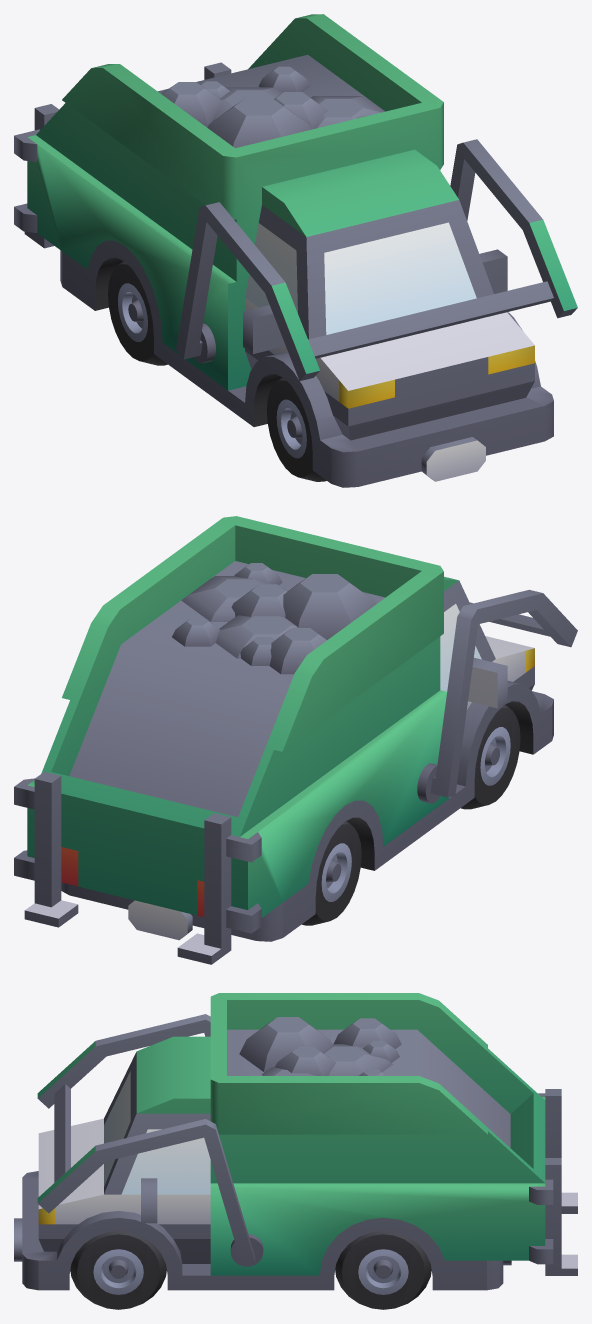
The model's file is garbage-truck.fbx.
3 views of the same model, one above another, from view 1: azimuth 30°, elevation 25°; view 2: azimuth 150°, elevation 25°; view 3: azimuth 270°, elevation 25° (orthographic). The views are drawn at different scales.
Visible parts, largest first — view 1: body, arm, trash, wheel-back-right, wheel-front-right; view 2: body, trash, arm, wheel-front-right, wheel-back-right; view 3: body, arm, trash, wheel-front-left, wheel-back-left.
Part boxes in pixels (x1,y1,x2,y2): body: [14, 14, 553, 487]; arm: [176, 139, 577, 380]; trash: [161, 66, 385, 148]; wheel-back-right: [108, 261, 167, 365]; wheel-front-right: [266, 377, 326, 481]; body: [14, 516, 553, 964]; trash: [172, 563, 376, 674]; arm: [417, 589, 577, 803]; wheel-front-right: [461, 704, 520, 809]; wheel-back-right: [302, 821, 361, 925]; body: [14, 993, 577, 1290]; arm: [37, 1014, 263, 1266]; trash: [239, 1017, 401, 1075]; wheel-front-left: [70, 1231, 166, 1309]; wheel-back-left: [335, 1231, 431, 1309].
Bounding box in the file's own units: 160 × 160 × 345.
1 material, 1 textured.
